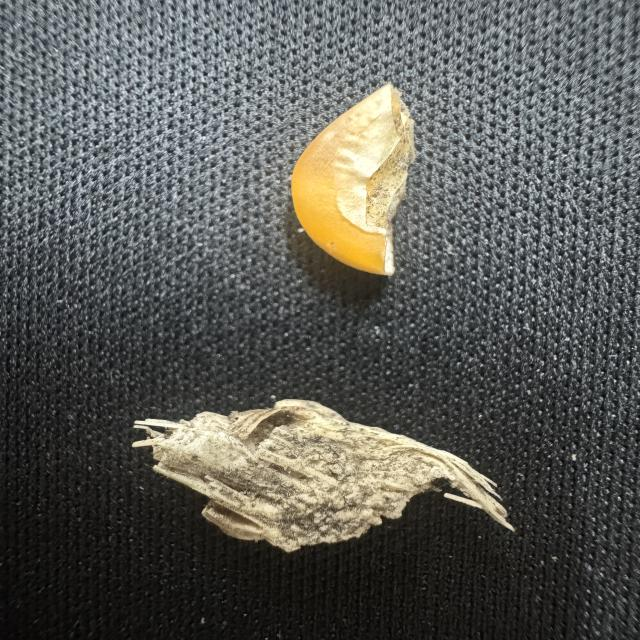Bad-Seed: (132, 394, 524, 558), (287, 77, 426, 287)
